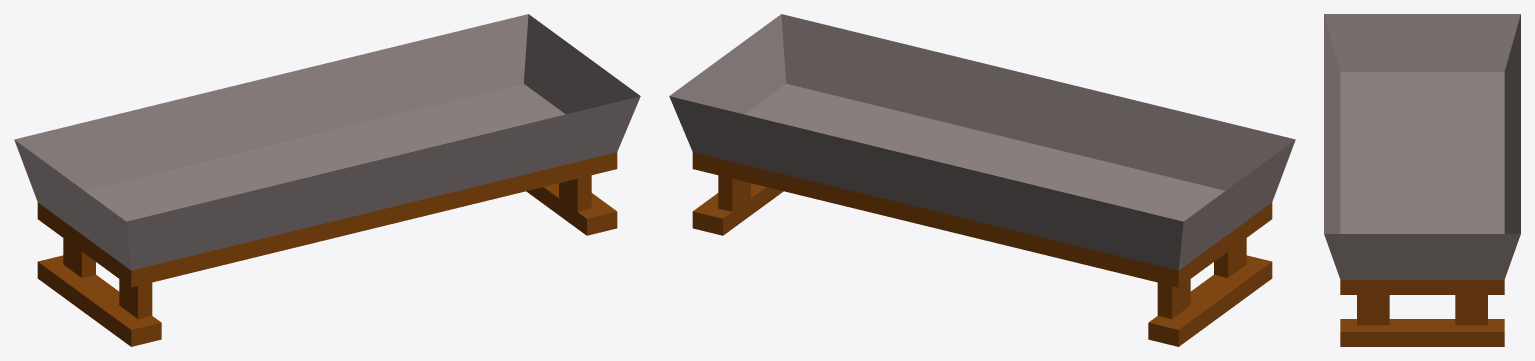
File: obj_trough_0.obj
3 renders of one model, left to right at view 1: azimuth 30°, elevation 25°; view 2: azimuth 150°, elevation 25°; view 3: azimuth 270°, elevation 25°, orthographic. The views are drawn at different scales.
Bounding box in the file's own units: 1.98 × 0.5 × 0.75.
